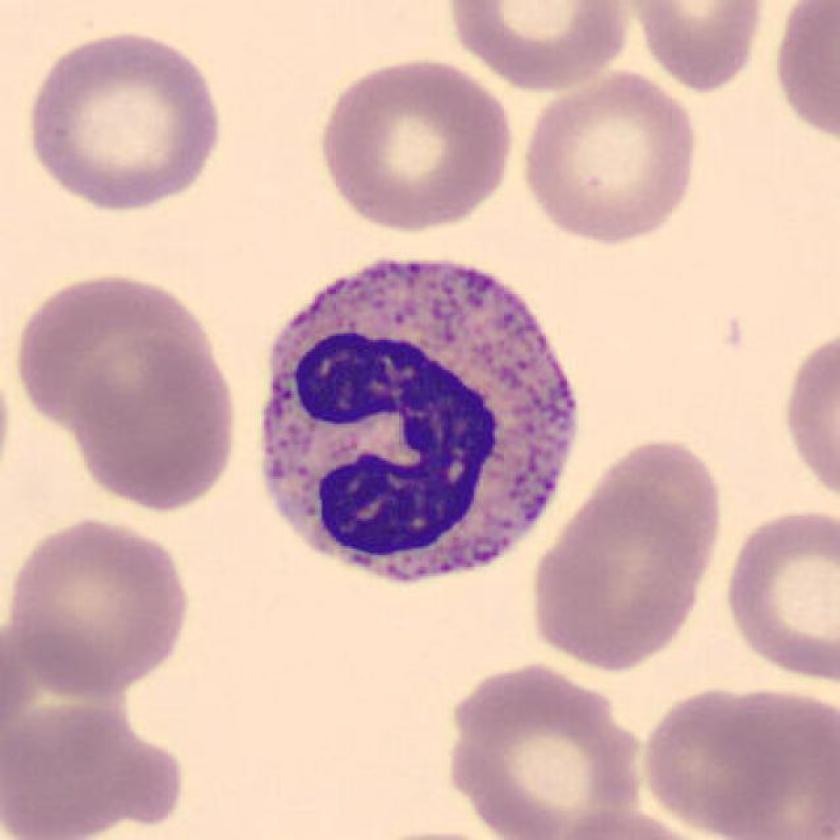neutrophil: (263, 260, 576, 579)
